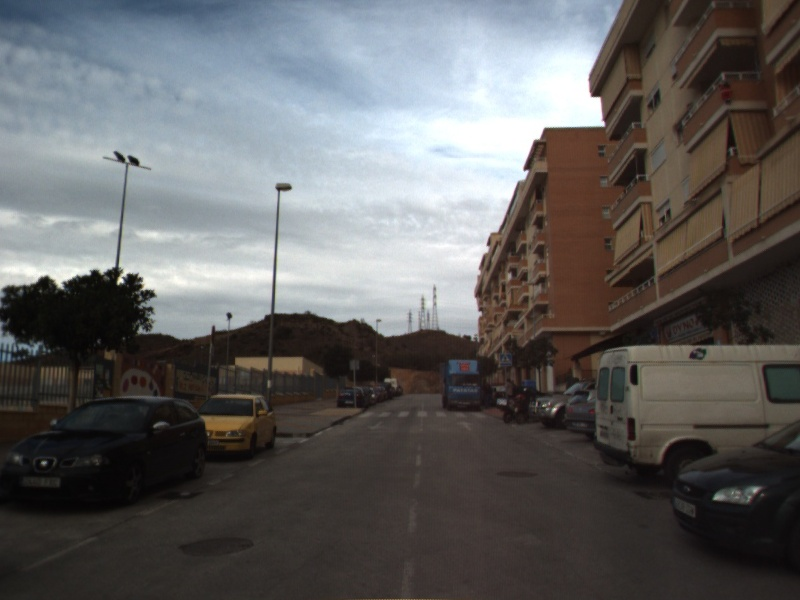STRAIGHT: (455, 419, 475, 433)
